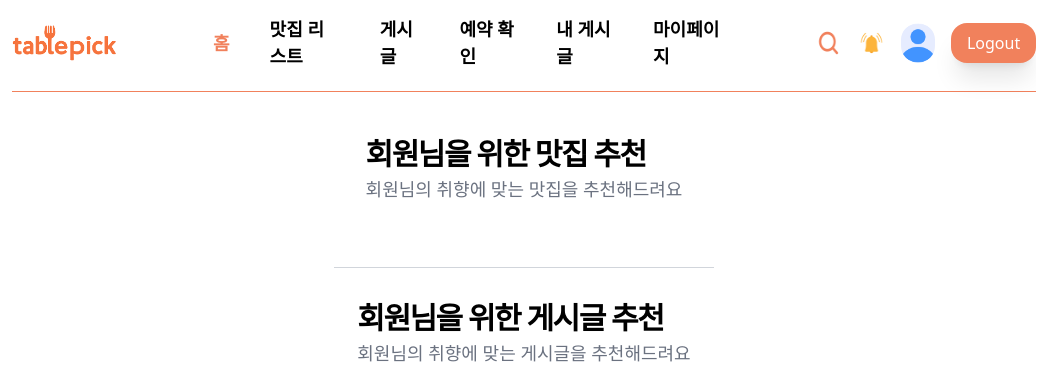
Test: 로그인/로그아웃 › 로그아웃 › 로그아웃 버튼 누르면 userInfo와 fcm토큰 사라지는지
The width and height of the screenshot is (1048, 379).
Expected: the link with test id "header-my-page-button" is shown, x1=653 y1=16 x2=719 y2=70
Step 1. Click the button with test id "header-logout-button" → (994, 43), box x1=951 y1=23 x2=1036 y2=63
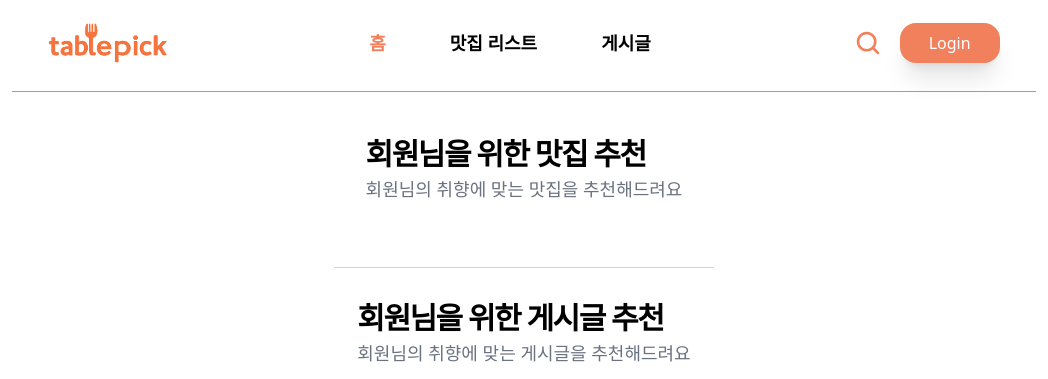
Result: the button with test id "header-logout-button" is gone
